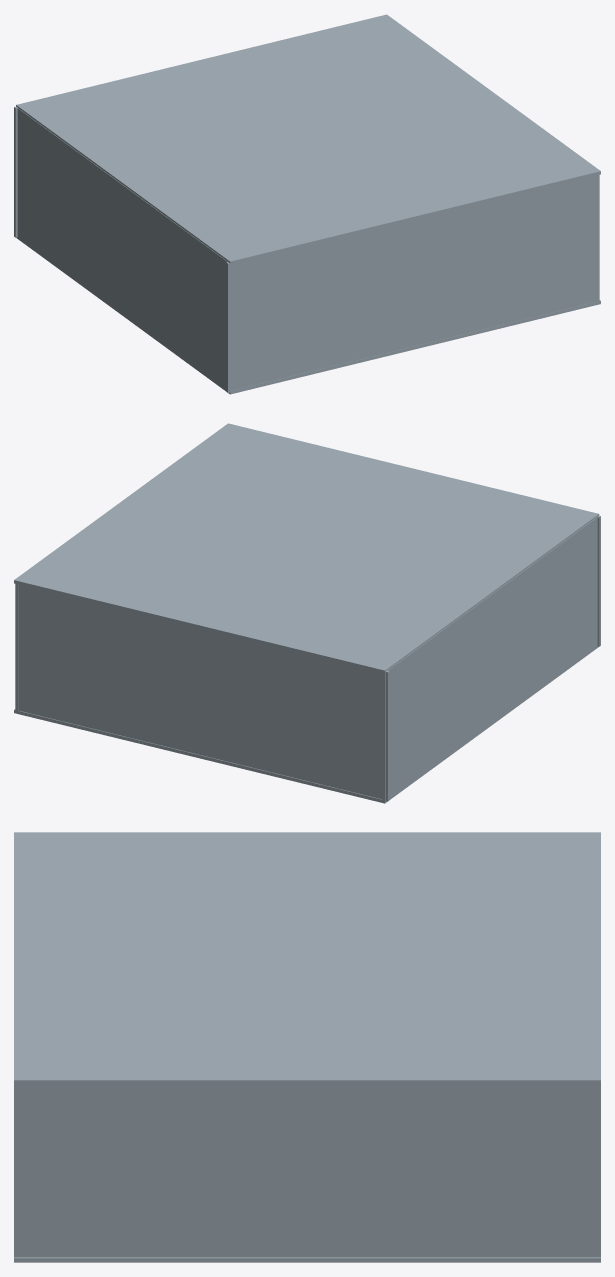
The model's file is exhibition03-bake.glb.
3 renders of one model, top to bottom at view 1: azimuth 30°, elevation 25°; view 2: azimuth 150°, elevation 25°; view 3: azimuth 270°, elevation 25°, orthographic. The views are drawn at different scales.
Parts seen in each view (by area): view 1: mesh-ceiling, mesh-wall-left, mesh-wall-front, mesh-floor, mesh-wall-right, mesh-wall-back; view 2: mesh-ceiling, mesh-wall-right, mesh-wall-front, mesh-floor, mesh-wall-left, mesh-wall-back; view 3: mesh-ceiling, mesh-wall-back, mesh-floor.
Boxes of the visible parts, x1,y1,x2,y2 form: mesh-ceiling: [16, 14, 600, 264]; mesh-wall-left: [226, 175, 596, 392]; mesh-wall-front: [17, 108, 232, 392]; mesh-floor: [16, 237, 600, 394]; mesh-wall-right: [14, 106, 17, 237]; mesh-wall-back: [596, 175, 599, 301]; mesh-ceiling: [14, 423, 599, 672]; mesh-wall-right: [18, 584, 389, 801]; mesh-wall-front: [382, 516, 598, 801]; mesh-floor: [14, 646, 598, 803]; mesh-wall-left: [597, 516, 600, 646]; mesh-wall-back: [15, 582, 18, 711]; mesh-ceiling: [14, 832, 600, 1084]; mesh-wall-back: [14, 1085, 600, 1257]; mesh-floor: [14, 1257, 600, 1262].
Size of the model in its own units: 12.08 by 4.11 by 12.
